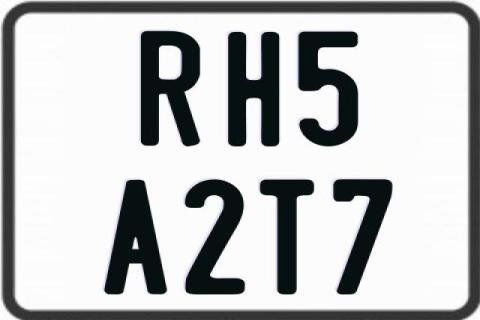0: (297, 29, 363, 149), (182, 178, 244, 294), (330, 178, 389, 298)
A: (102, 180, 167, 299)
H: (226, 31, 279, 149)
R: (140, 29, 202, 144)
T: (258, 179, 315, 295)
